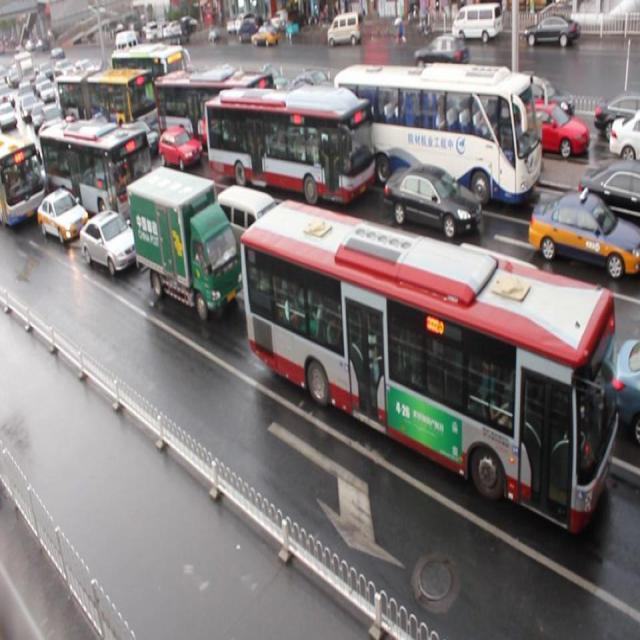BigCar: (242, 201, 614, 572), (369, 60, 542, 196), (125, 175, 239, 348), (207, 94, 375, 201), (46, 123, 146, 220), (0, 135, 43, 229)
car: (531, 186, 633, 285), (379, 166, 484, 242), (539, 94, 590, 174), (80, 215, 134, 284), (38, 190, 85, 254), (524, 10, 584, 56), (158, 125, 205, 177), (452, 5, 502, 47), (323, 14, 368, 46), (250, 20, 282, 53)
